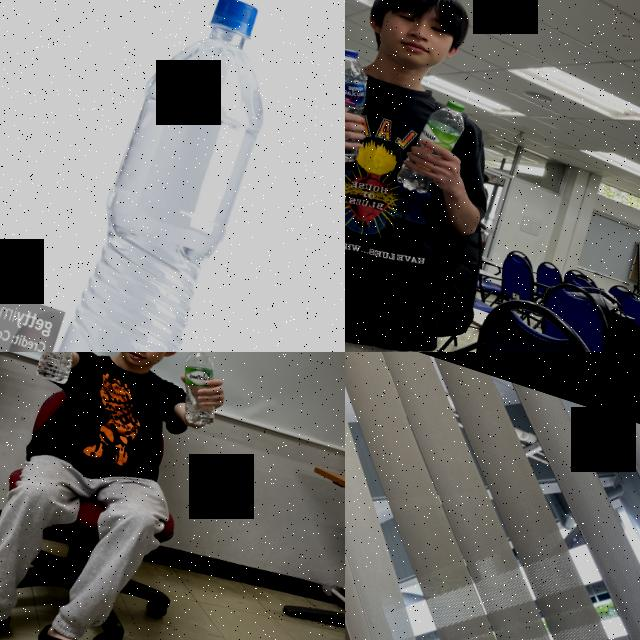bottle: (6, 0, 301, 352), (392, 90, 472, 202), (345, 44, 390, 168), (167, 352, 235, 431), (29, 352, 95, 387)
